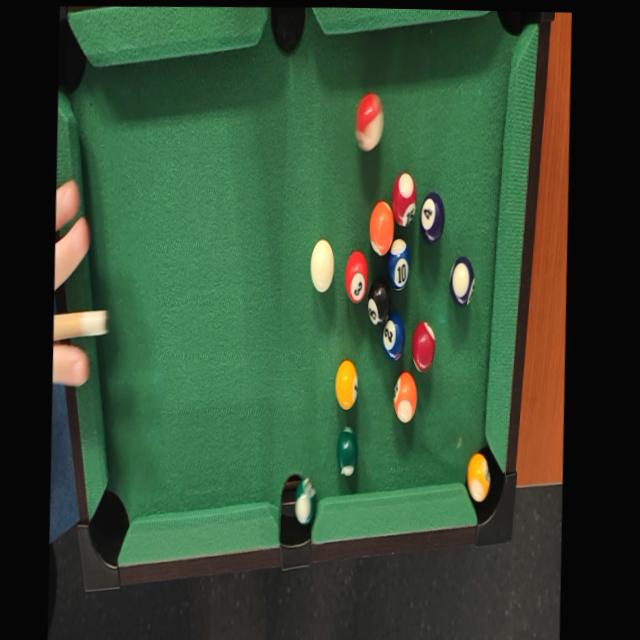cue ball: (305, 236, 337, 295)
other: (383, 218, 417, 294), (362, 196, 397, 260), (349, 92, 384, 154), (375, 303, 405, 375), (290, 466, 323, 531), (388, 165, 420, 229), (417, 182, 447, 249), (365, 263, 396, 325), (390, 363, 418, 428), (409, 312, 438, 373), (331, 353, 362, 410), (460, 445, 491, 501), (340, 248, 369, 303), (332, 425, 359, 482), (447, 258, 475, 311)
